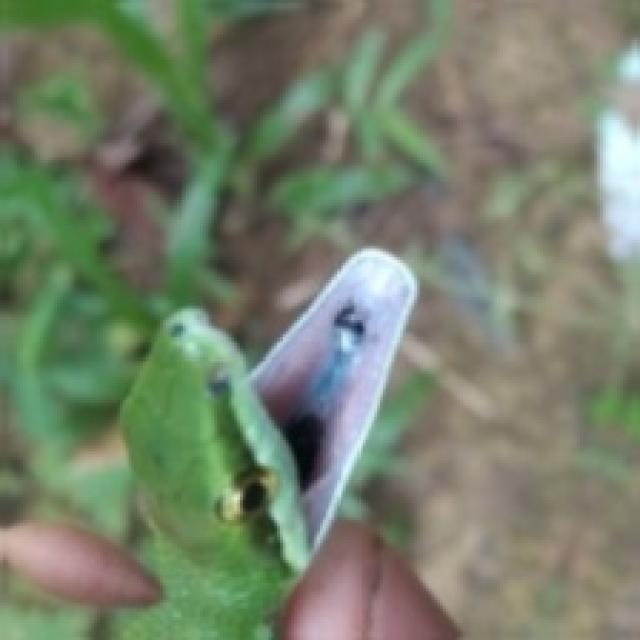red-tailed green ratsnake: (121, 250, 418, 639)
